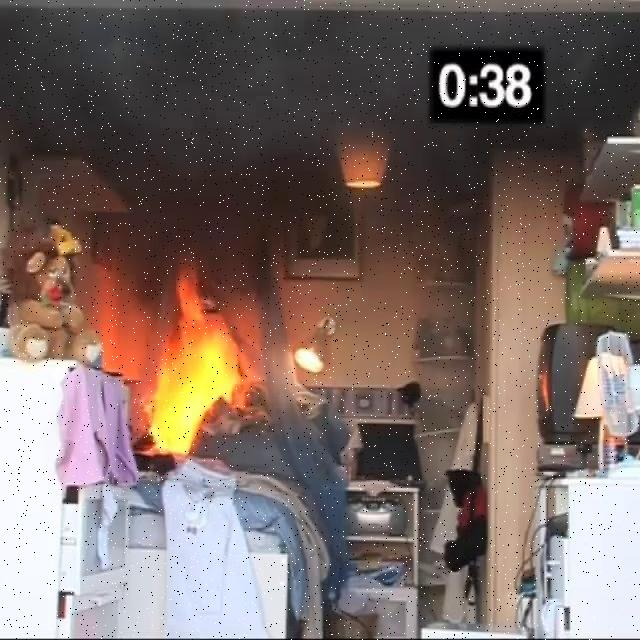fire: (142, 247, 254, 464)
light: (345, 162, 392, 204)
smoke: (24, 14, 333, 189)
